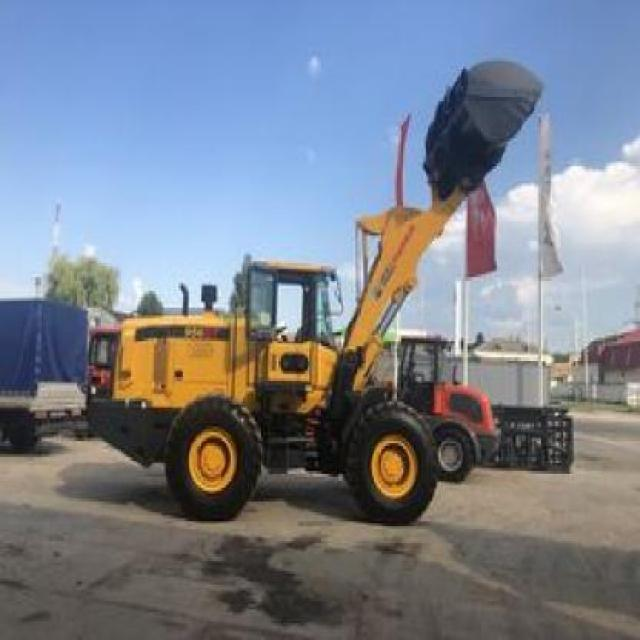buldozerpayloadergrader: (77, 36, 557, 538)
